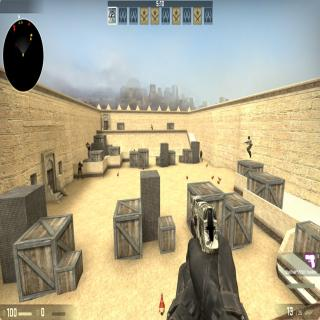CT-Body: (76, 160, 84, 181), (85, 142, 91, 158), (200, 150, 202, 162)
T-Body: (245, 135, 252, 158), (150, 124, 154, 131)
